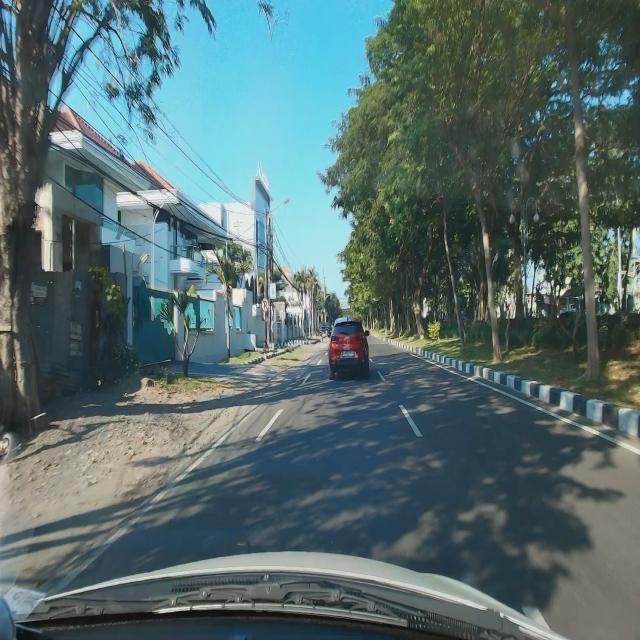car: (328, 318, 370, 381)
license-plate: (342, 349, 354, 358)
